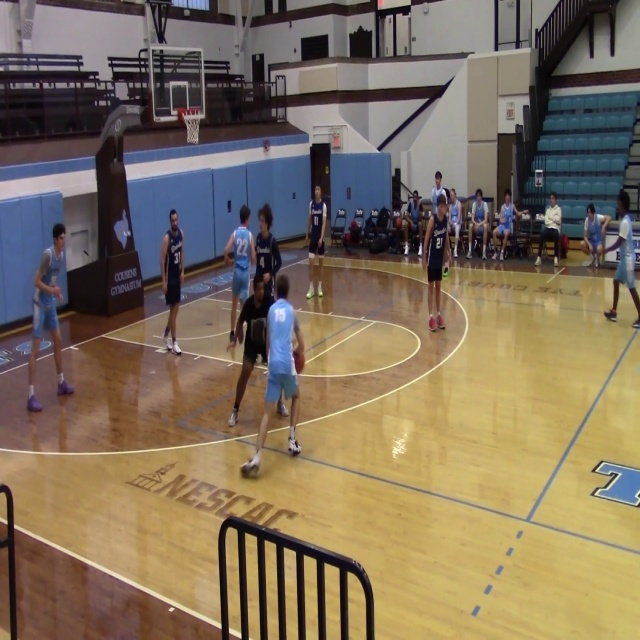Basketball: (249, 318, 267, 345), (293, 350, 305, 373)
